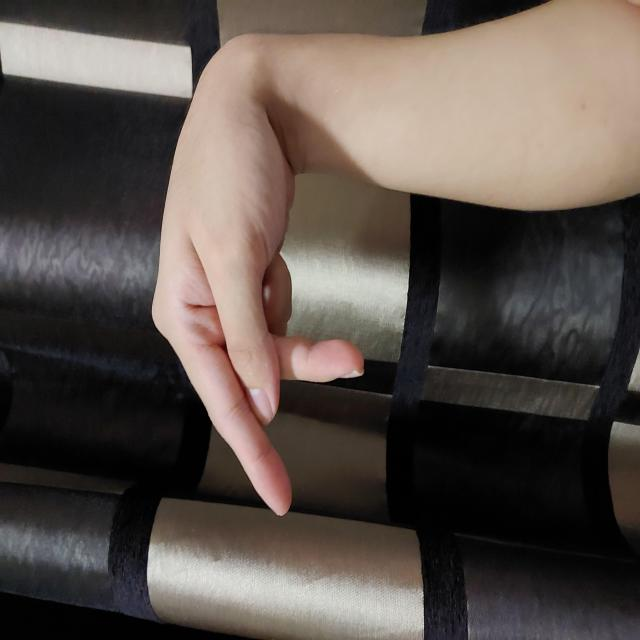P: (122, 150, 562, 367)
